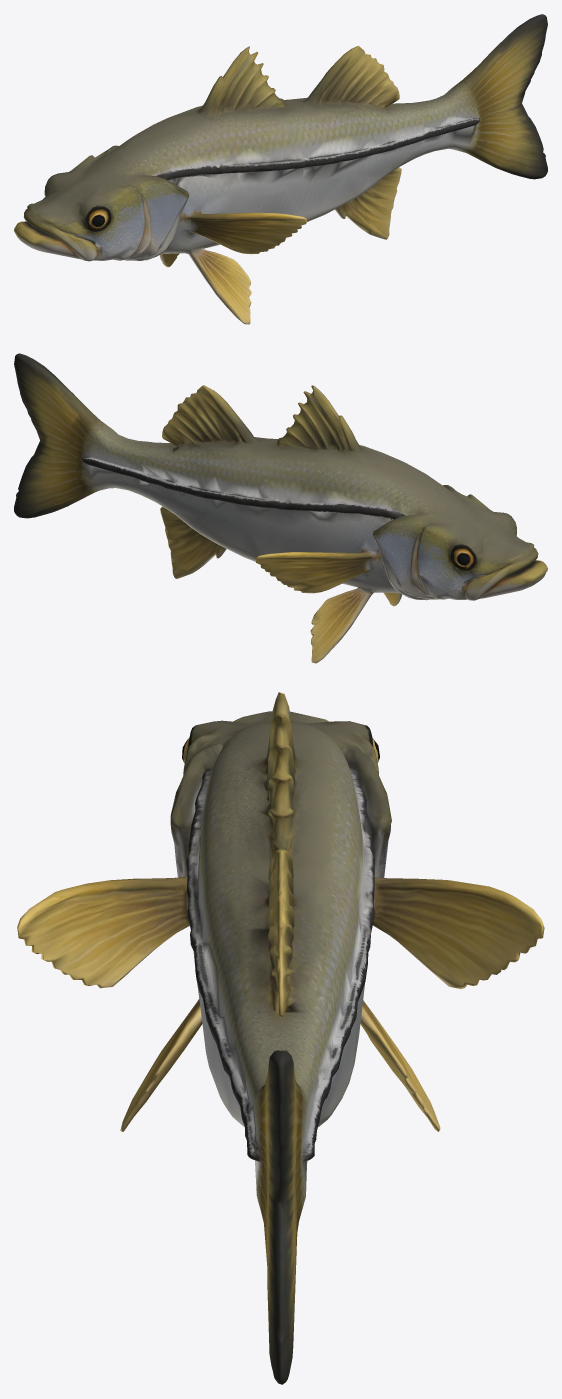
File: fish-snuk.glb
3 renders of one model, top to bottom at view 1: azimuth 30°, elevation 25°; view 2: azimuth 150°, elevation 25°; view 3: azimuth 270°, elevation 25°, orthographic. The views are drawn at different scales.
Visible parts, largest first — view 1: tripo_node_2a8b5ea8-e86b-476e-a31e-c7c74e2b8927; view 2: tripo_node_2a8b5ea8-e86b-476e-a31e-c7c74e2b8927; view 3: tripo_node_2a8b5ea8-e86b-476e-a31e-c7c74e2b8927.
Part boxes in pixels (x1=…): tripo_node_2a8b5ea8-e86b-476e-a31e-c7c74e2b8927: x1=14, y1=14, x2=547, y2=324; tripo_node_2a8b5ea8-e86b-476e-a31e-c7c74e2b8927: x1=14, y1=353, x2=547, y2=663; tripo_node_2a8b5ea8-e86b-476e-a31e-c7c74e2b8927: x1=17, y1=692, x2=544, y2=1384.
Size of the model in its own units: 1 by 0.4307 by 0.431.
Materials: 1 (1 with a texture image).
